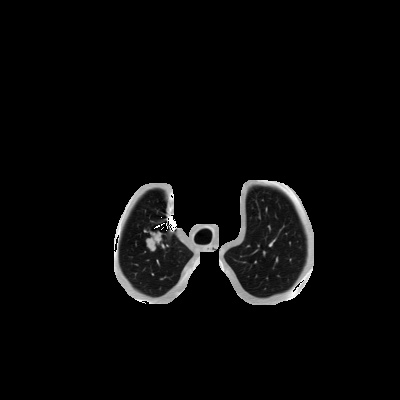PN: (144, 232, 162, 250)
